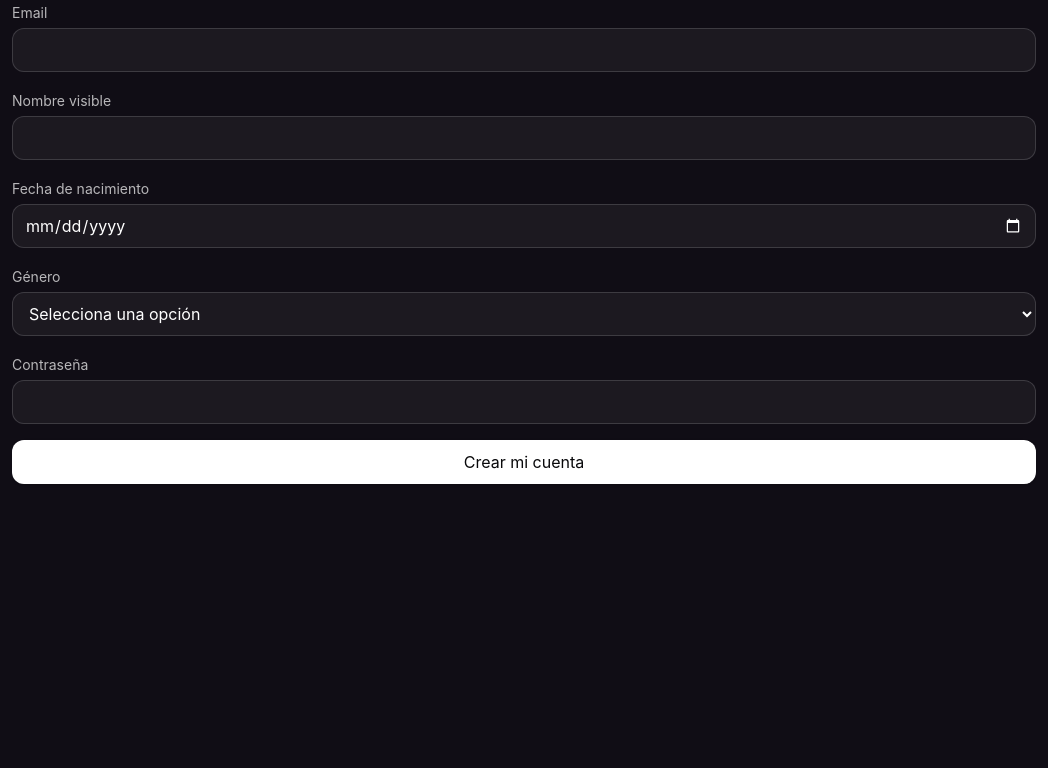
RegisterForm › shows an error message when the email is already taken
This screenshot has width=1048, height=768.
Type "person@example.com" into the field labelled "Email" at (524, 50), box [12,28,1036,72]
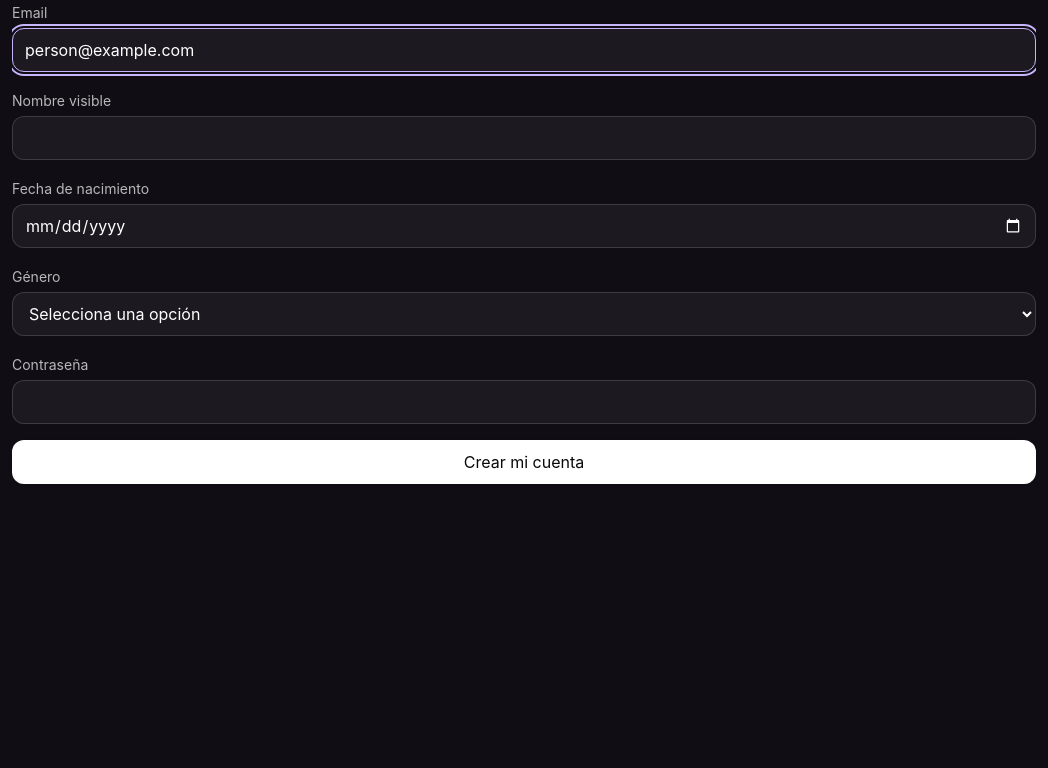
Type "Person" into the field labelled "Nombre visible" at (524, 138), box [12,116,1036,160]
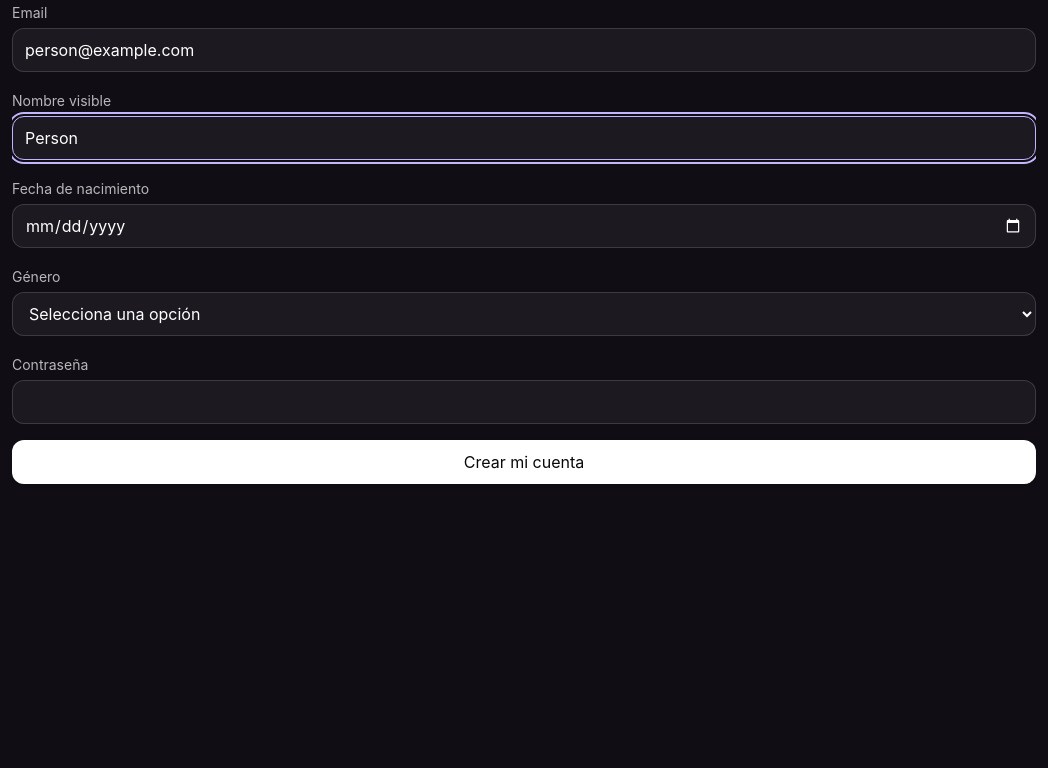
Type "1995-01-01" into the date field labelled "Fecha de nacimiento" at (524, 226), box [12,204,1036,248]
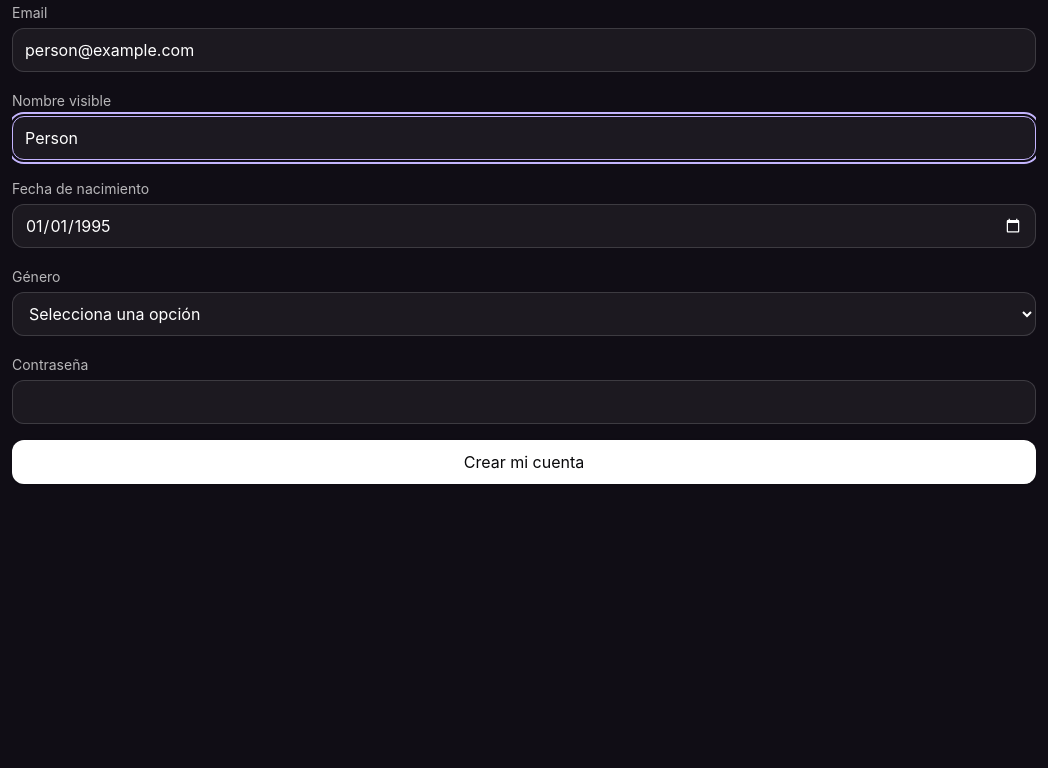
Select "Mujer" in the dropdown labelled "Género" at (524, 314), box [12,292,1036,336]
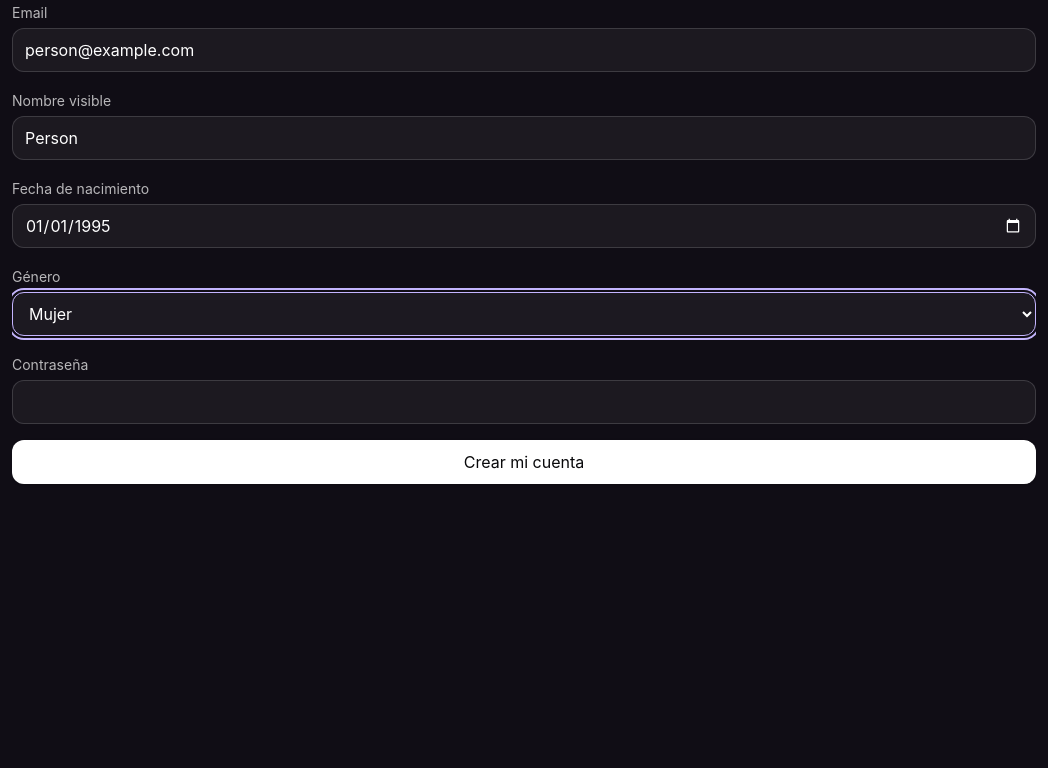
Type "correct horse battery staple" into the password field labelled "Contraseña" at (524, 402), box [12,380,1036,424]
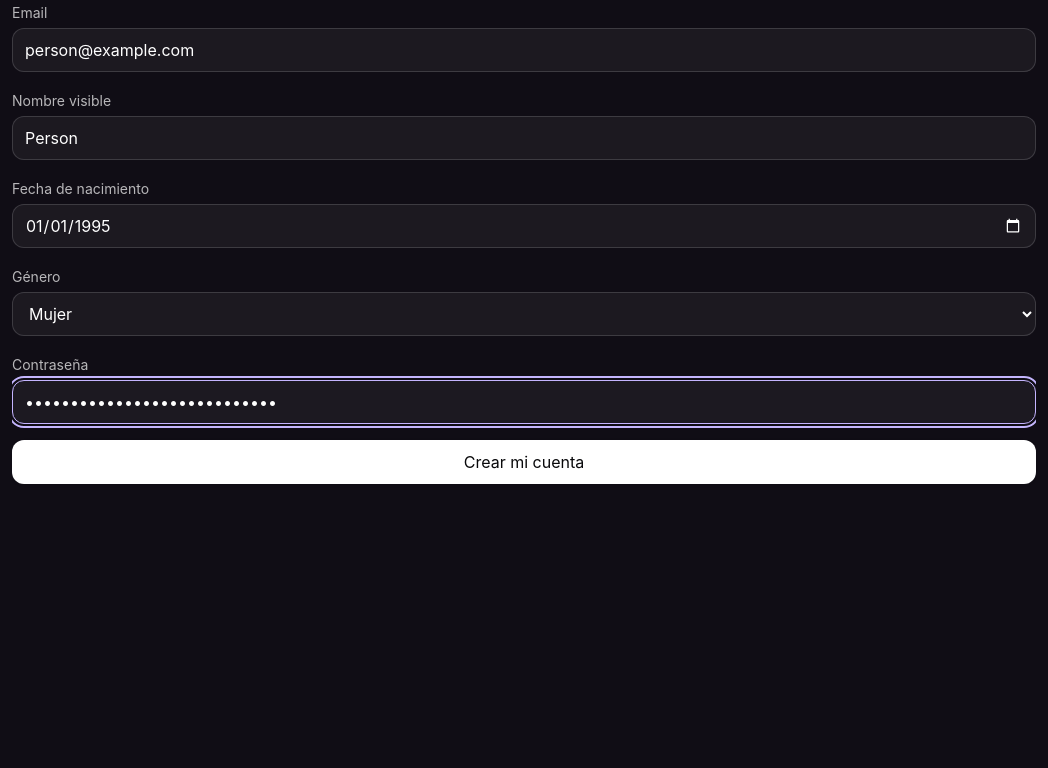
Click the button "Crear mi cuenta" at (524, 462), box [12,440,1036,484]
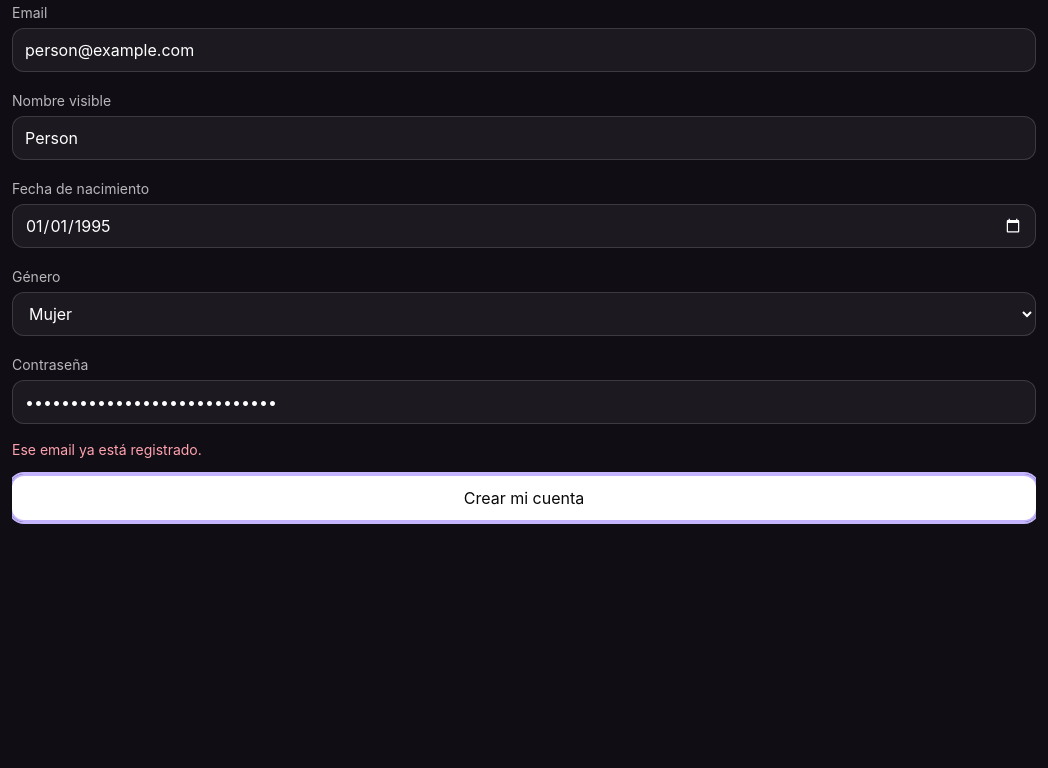
Expected: the text "Ese email ya está registrado." is shown, [12,441,202,458]
